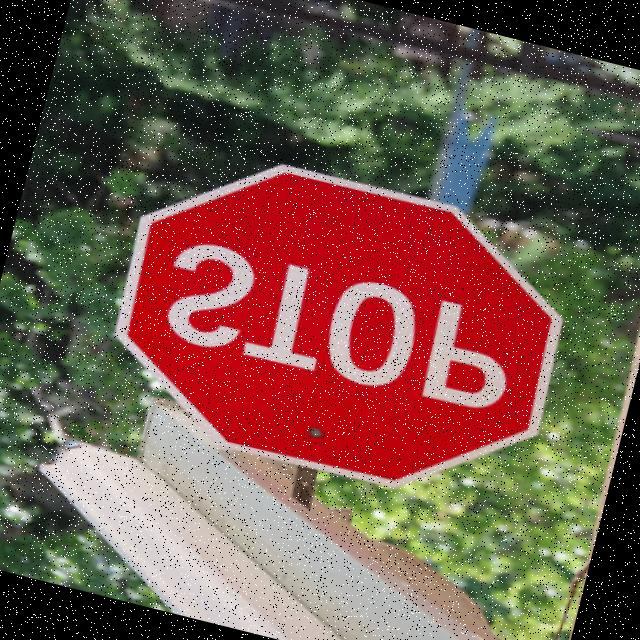stop: (79, 122, 596, 530)
